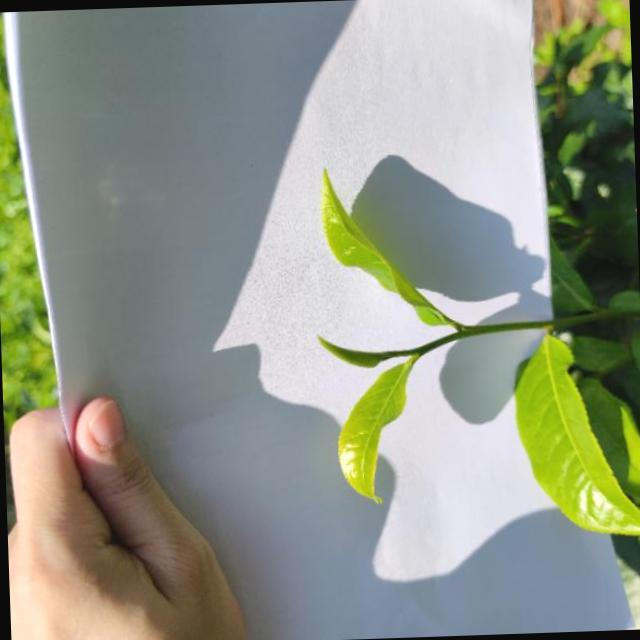Stem: (469, 323, 501, 334)
